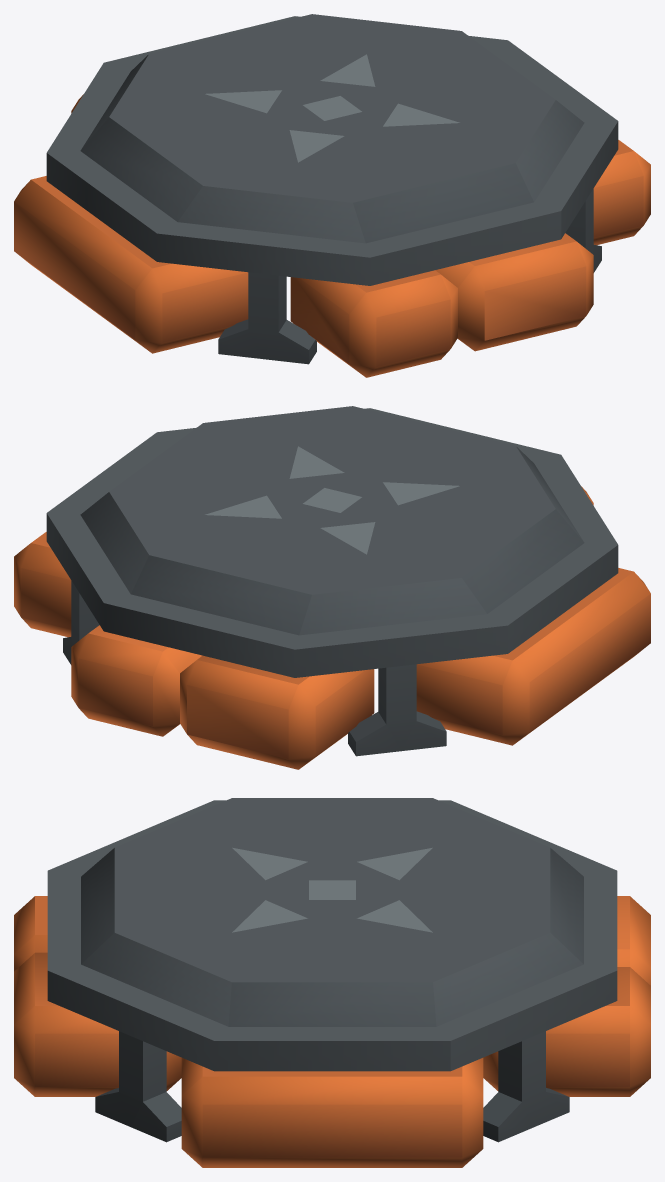
Rendered from pad.glb.
3 views of the same model, one above another, from view 1: azimuth 30°, elevation 25°; view 2: azimuth 150°, elevation 25°; view 3: azimuth 270°, elevation 25° (orthographic). The views are drawn at different scales.
Parts seen in each view (by area): view 1: landingpad_small; view 2: landingpad_small; view 3: landingpad_small.
Part boxes in pixels (x1=…): landingpad_small: x1=14, y1=14, x2=650, y2=377; landingpad_small: x1=14, y1=406, x2=650, y2=769; landingpad_small: x1=14, y1=798, x2=650, y2=1167.
Bounding box in the file's own units: 1.9 × 0.5001 × 1.9.
1 material, 1 textured.
